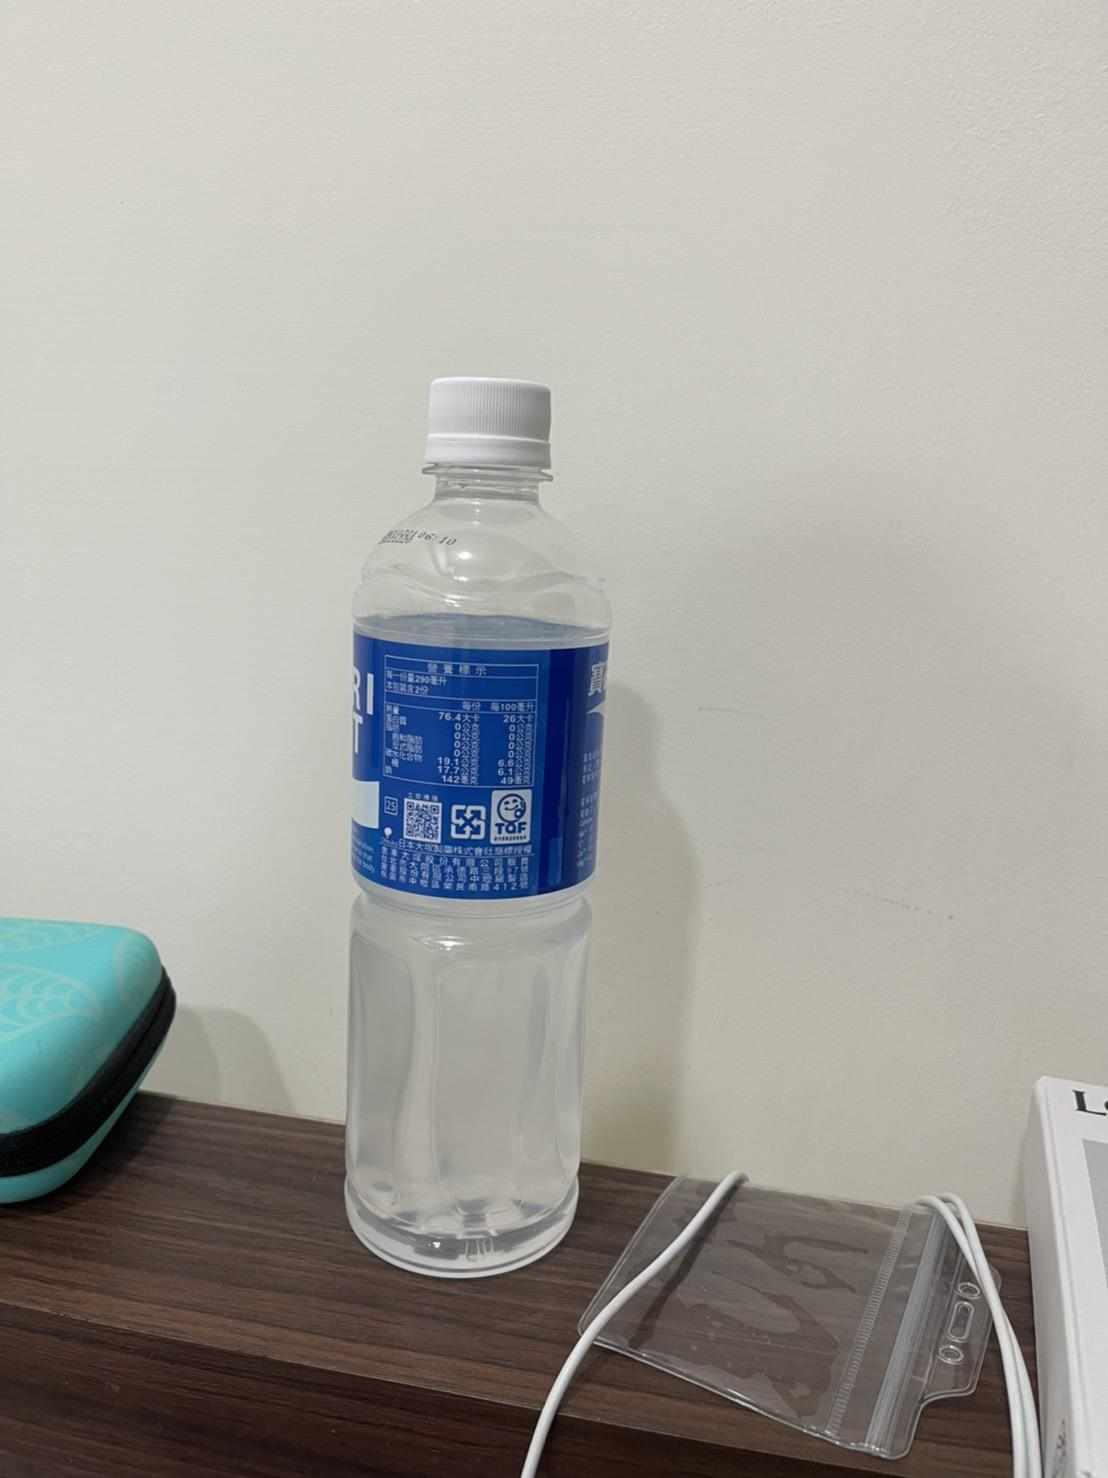bottle: (308, 0, 630, 489)
